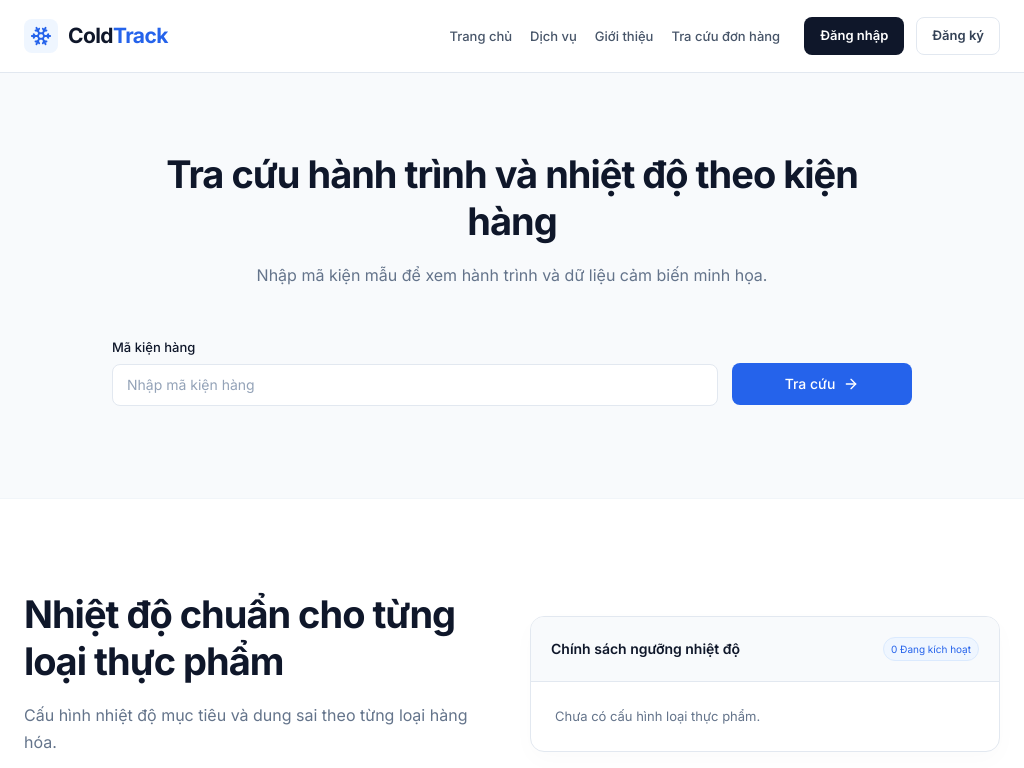
B0 public landing › requires a code for empty tracking request
(page scrolled)
Click the button "Tra cứu".
click(822, 384)  # box [732,363,912,405]
(page scrolled)
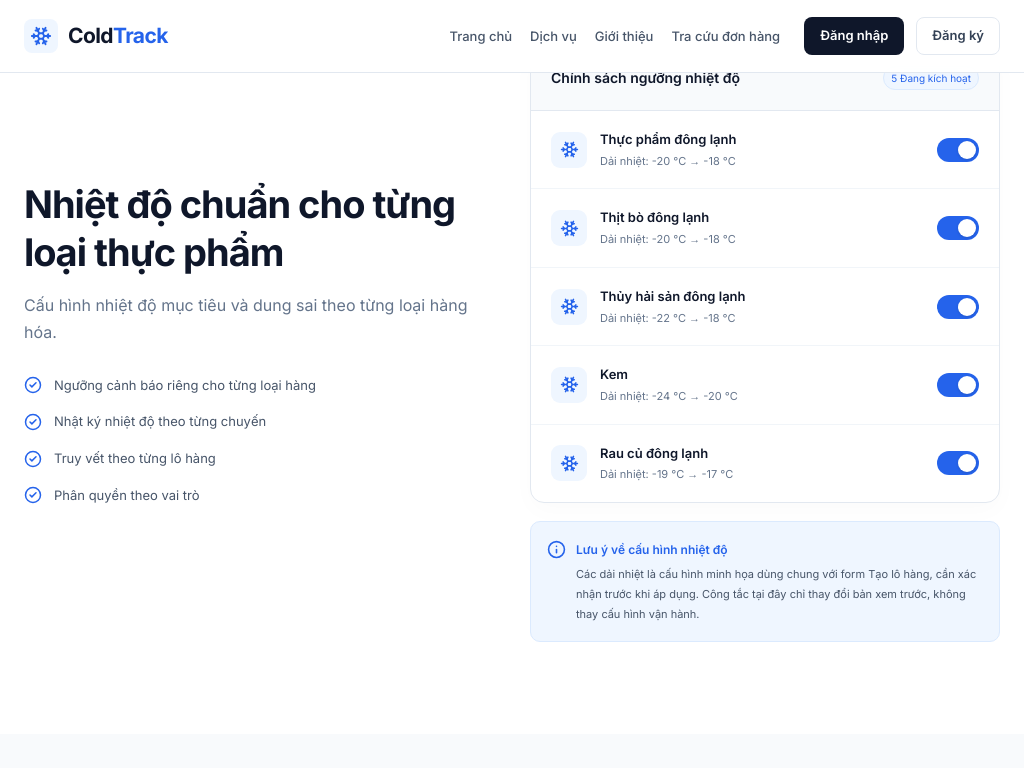
Now the switch named "Bật giám sát Kem" is shown, box [937,373,979,397]
